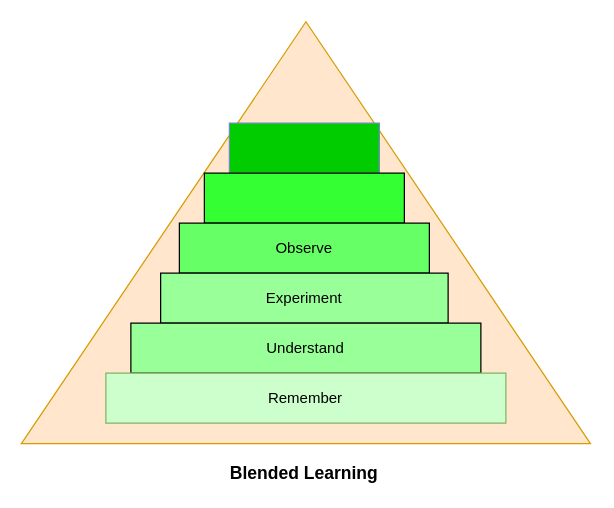
Some shapes in this 614 by 508 pixel diagram are drawn without their labels. Each missing label, with the box of its shape:
Create: (228, 122, 379, 173)
Evaluate: (203, 172, 404, 223)
